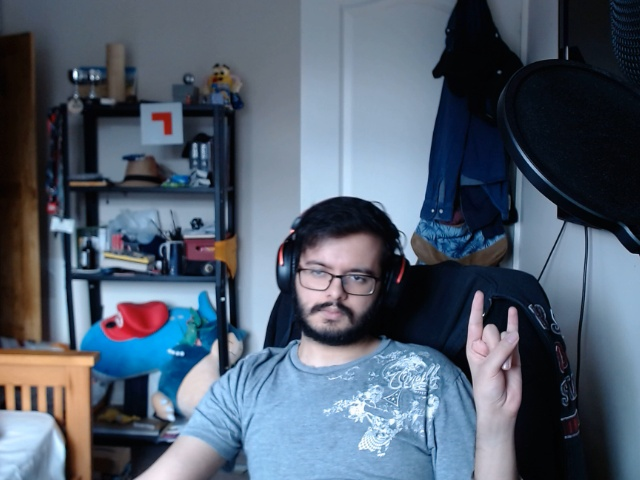Rock on: (457, 287, 537, 414)
